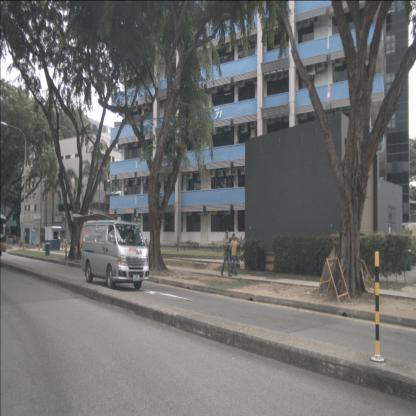cone: (38, 243, 41, 251)
